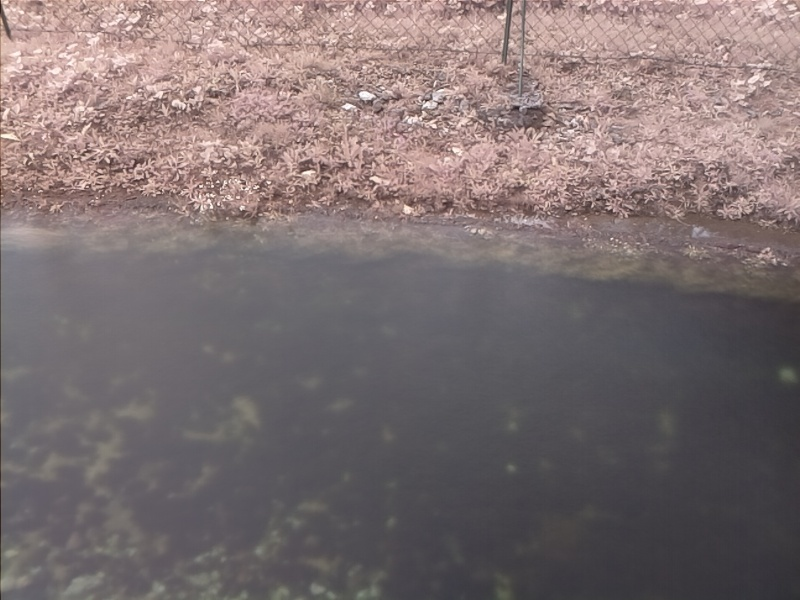Water: (1, 208, 798, 600)
